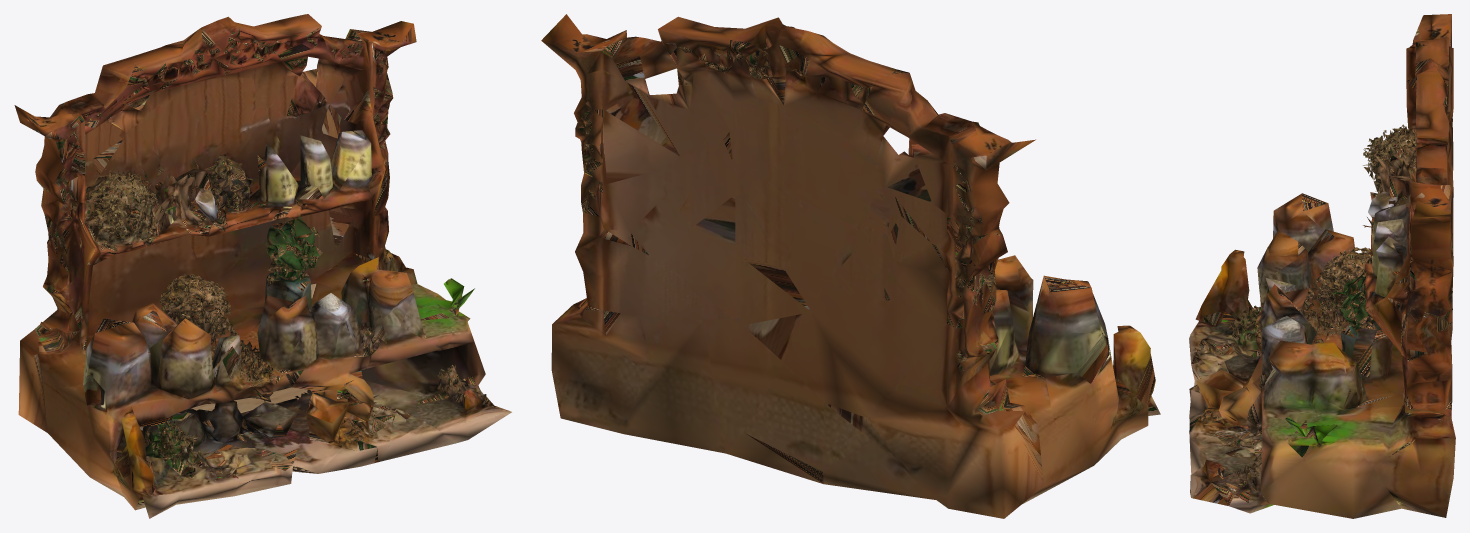
File: bq_apothecary.mid.glb
3 renders of one model, left to right at view 1: azimuth 30°, elevation 25°; view 2: azimuth 150°, elevation 25°; view 3: azimuth 270°, elevation 25°, orthographic. The views are drawn at different scales.
Size of the model in its own units: 1.99 by 1.75 by 1.16.
1 material, 1 textured.
